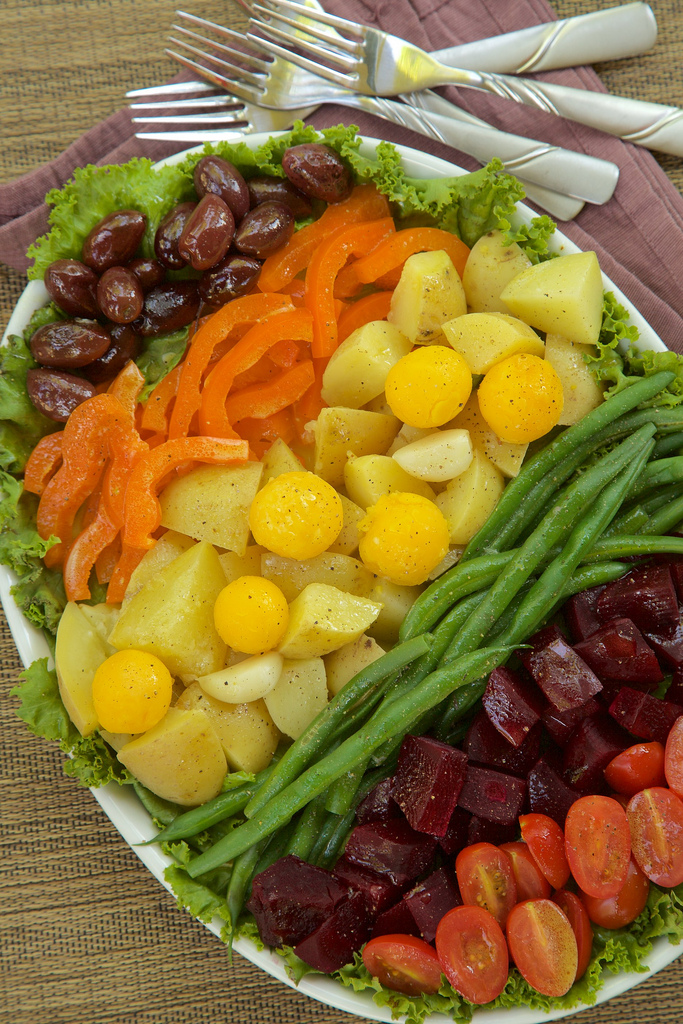boiled potatoes: (397, 252, 584, 346), (116, 571, 237, 661)
chopped lettuce: (358, 142, 528, 215)
